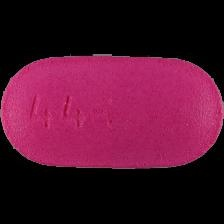55154-6888: (0, 0, 224, 224)
